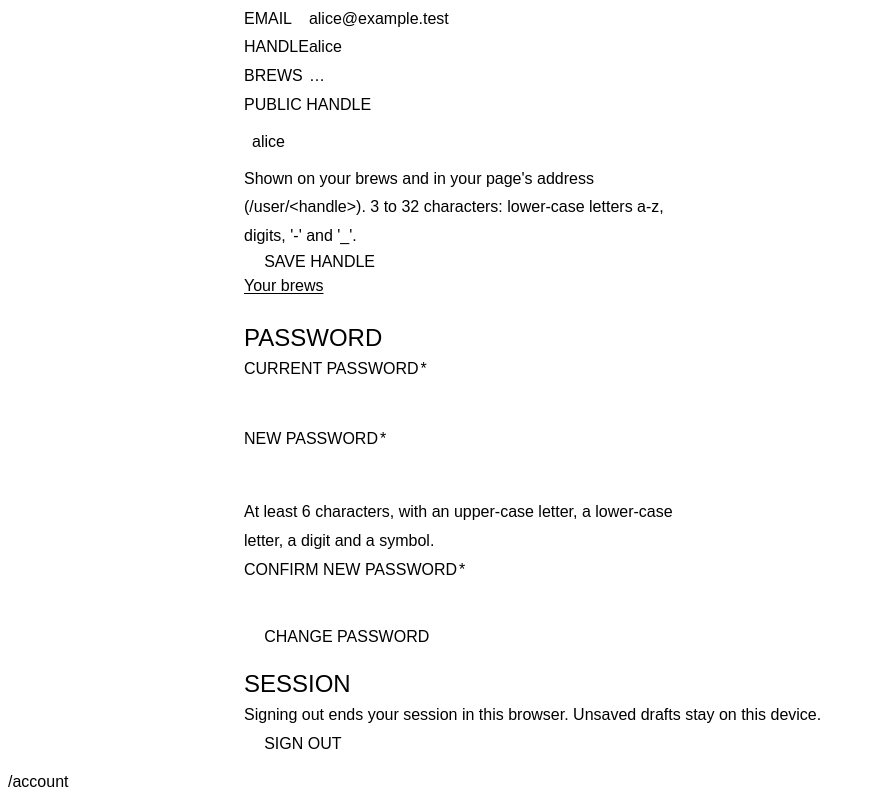
Test case: AccountPage › signs out: the page turns into the sign-in prompt
The width and height of the screenshot is (893, 799).
(page scrolled)
What coordinates should you click on to do the following:
click the button "Sign out"
I would click on:
 (303, 743)
Its box is [244,733,362,754].
Wait 1500 ms
(page scrolled)
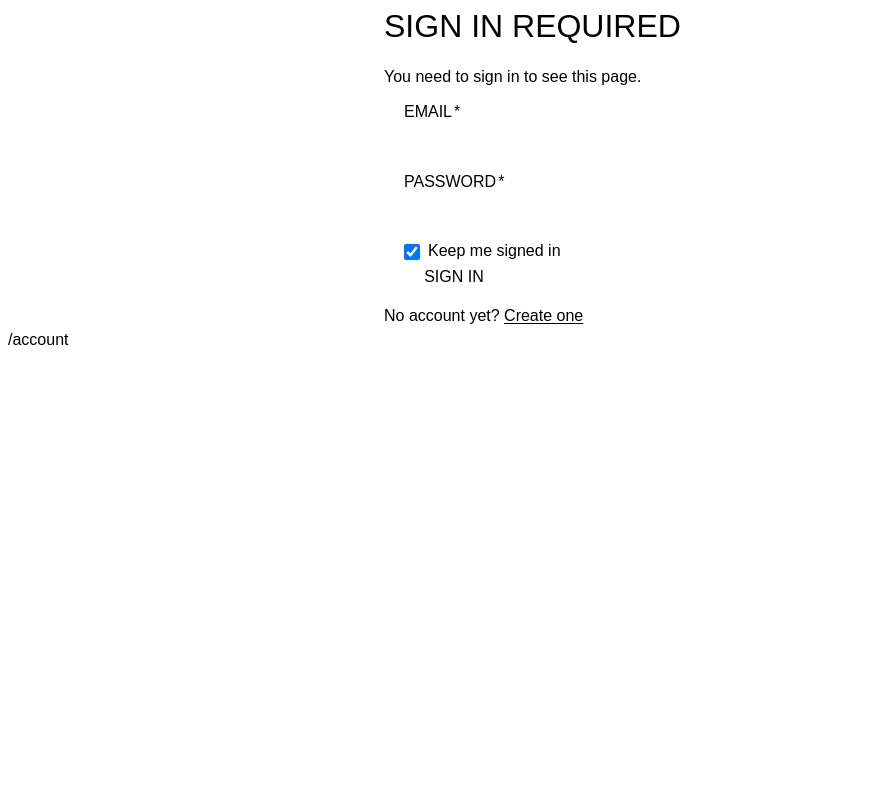
Result: the form "Sign in" is shown at [404,98,876,287]
